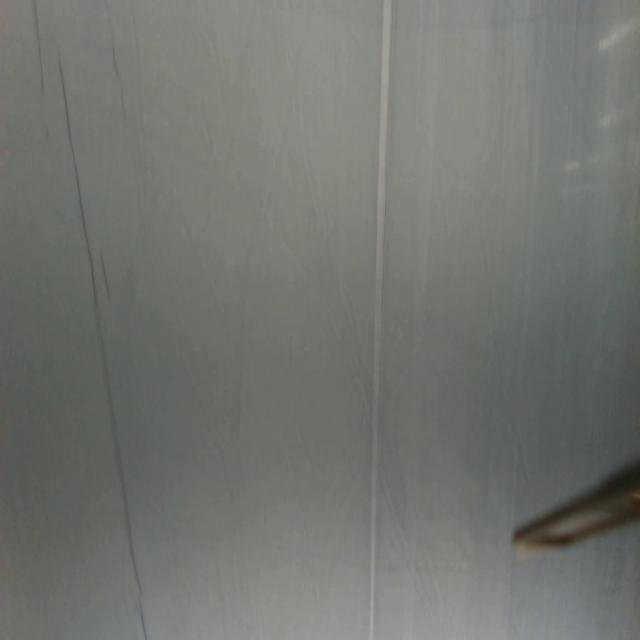crease: (57, 50, 148, 640), (369, 0, 394, 639), (105, 3, 128, 122), (33, 0, 48, 104)
